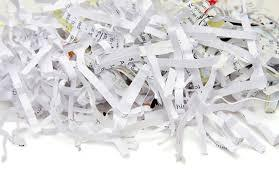Paper shavings: (1, 2, 279, 181)
